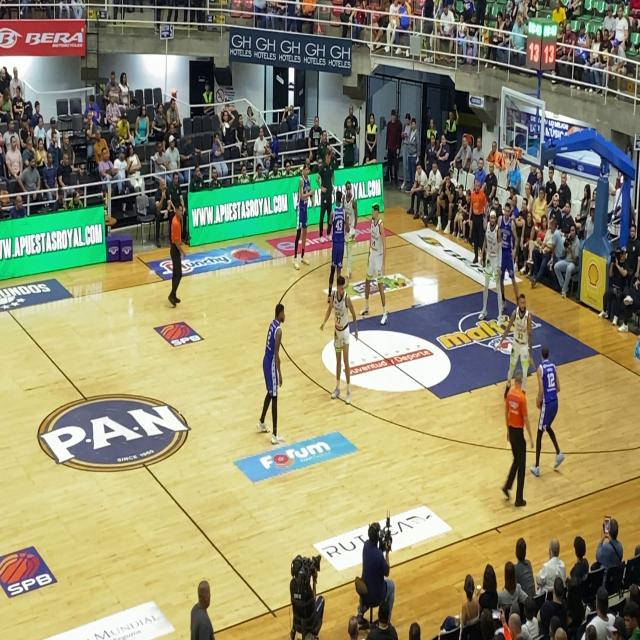referee: (494, 370, 531, 515)
team1: (364, 200, 392, 351), (504, 285, 531, 380)
team2: (252, 295, 288, 446), (538, 341, 569, 480), (328, 179, 354, 285), (291, 161, 314, 270)
ubasket: (502, 144, 520, 176)
